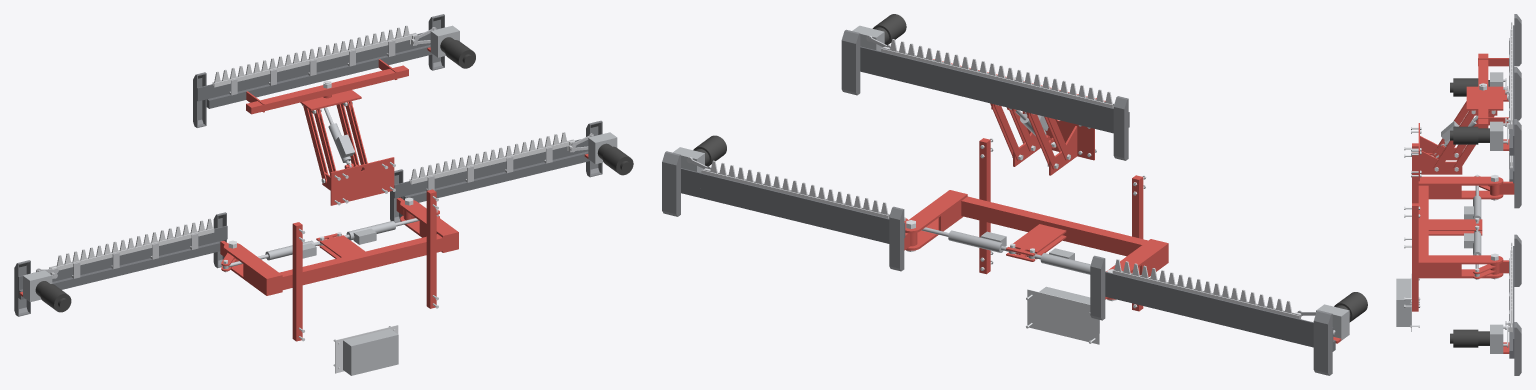
The model's file is work.glb.
3 views of the same model, side by side, from view 1: azimuth 30°, elevation 25°; view 2: azimuth 150°, elevation 25°; view 3: azimuth 270°, elevation 25° (orthographic). The views are drawn at different scales.
Parts seen in each view (by area): view 1: frame; view 2: frame; view 3: frame.
Part boxes in pixels (box(x1,y1,x2,y2)): frame: box(14, 14, 633, 375); frame: box(662, 14, 1367, 375); frame: box(1396, 14, 1521, 375).
Bounding box in the file's own units: 3.73 × 1.68 × 0.752.
